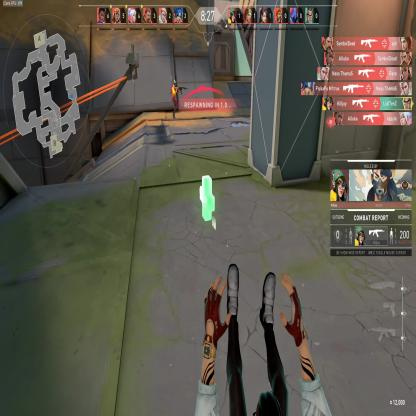enemy: (170, 78, 181, 119)
